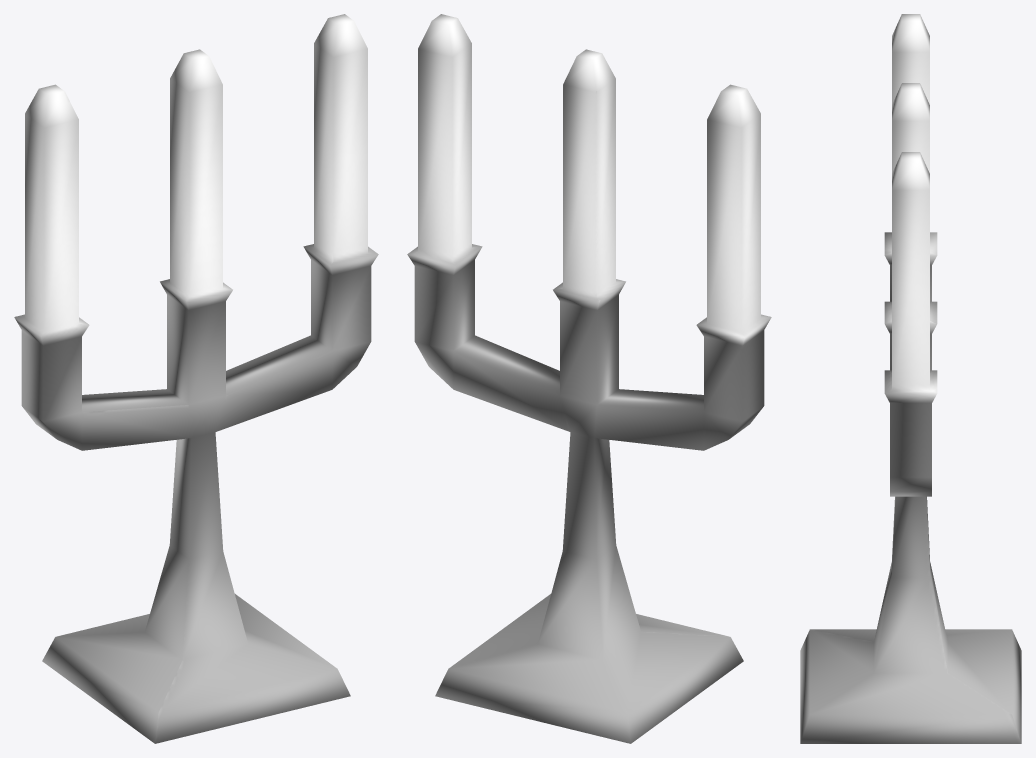
The model's file is Candilabre.fbx.
3 views of the same model, side by side, from view 1: azimuth 30°, elevation 25°; view 2: azimuth 150°, elevation 25°; view 3: azimuth 270°, elevation 25° (orthographic). The views are drawn at different scales.
Parts seen in each view (by area): view 1: Candilabre; view 2: Candilabre; view 3: Candilabre.
Part boxes in pixels (x1,y1,x2,y2): Candilabre: (14, 14, 378, 743); Candilabre: (407, 14, 771, 743); Candilabre: (800, 14, 1021, 743).
Size of the model in its own units: 0.2833 by 0.5001 by 0.1643.
